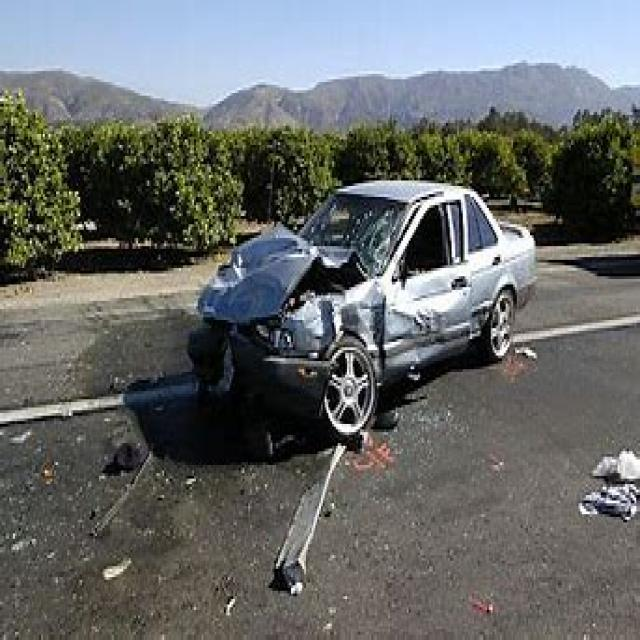Accident: (166, 101, 466, 491)
